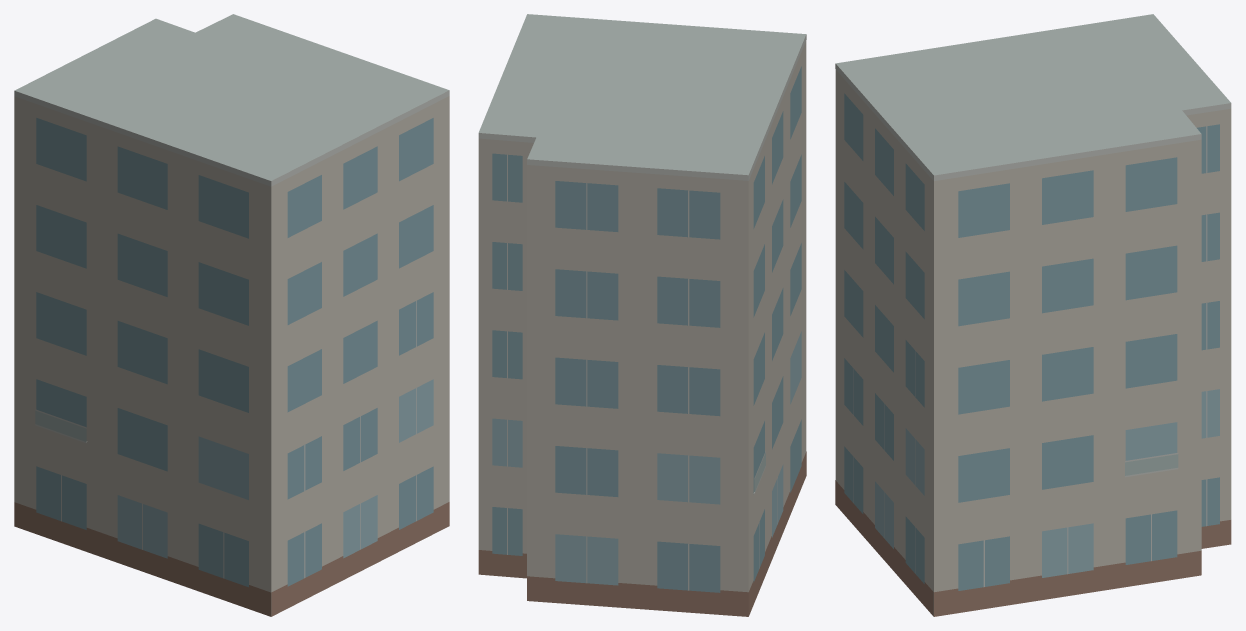
The model's file is survey-upis-32931589.glb.
3 renders of one model, left to right at view 1: azimuth 30°, elevation 25°; view 2: azimuth 150°, elevation 25°; view 3: azimuth 270°, elevation 25°, orthographic.
Visible parts, largest first — view 1: survey-upis-32931589.tmp; view 2: survey-upis-32931589.tmp; view 3: survey-upis-32931589.tmp.
Part boxes in pixels (<box>): survey-upis-32931589.tmp: <box>14,14,449,616</box>; survey-upis-32931589.tmp: <box>478,14,806,616</box>; survey-upis-32931589.tmp: <box>835,14,1231,616</box>.
Size of the model in its own units: 14.95 by 19.04 by 15.49.
